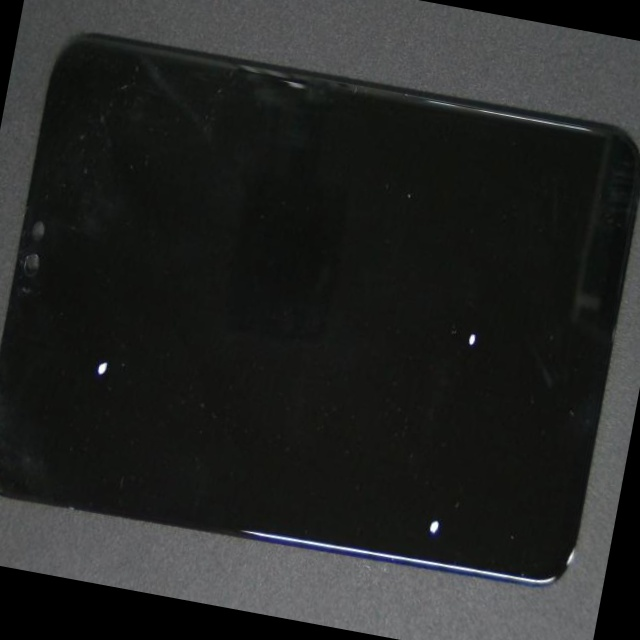stain: (180, 190, 640, 640), (205, 111, 640, 504), (0, 116, 207, 562)
